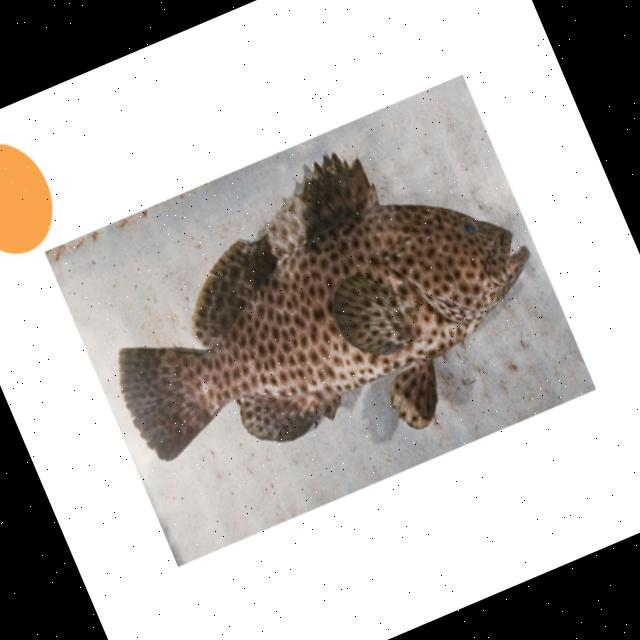ikan: (64, 92, 578, 533)
